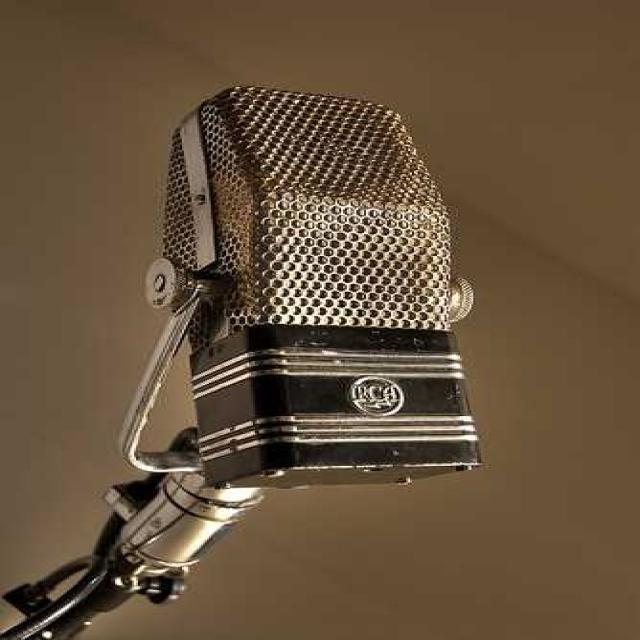microphone: (162, 90, 479, 487)
